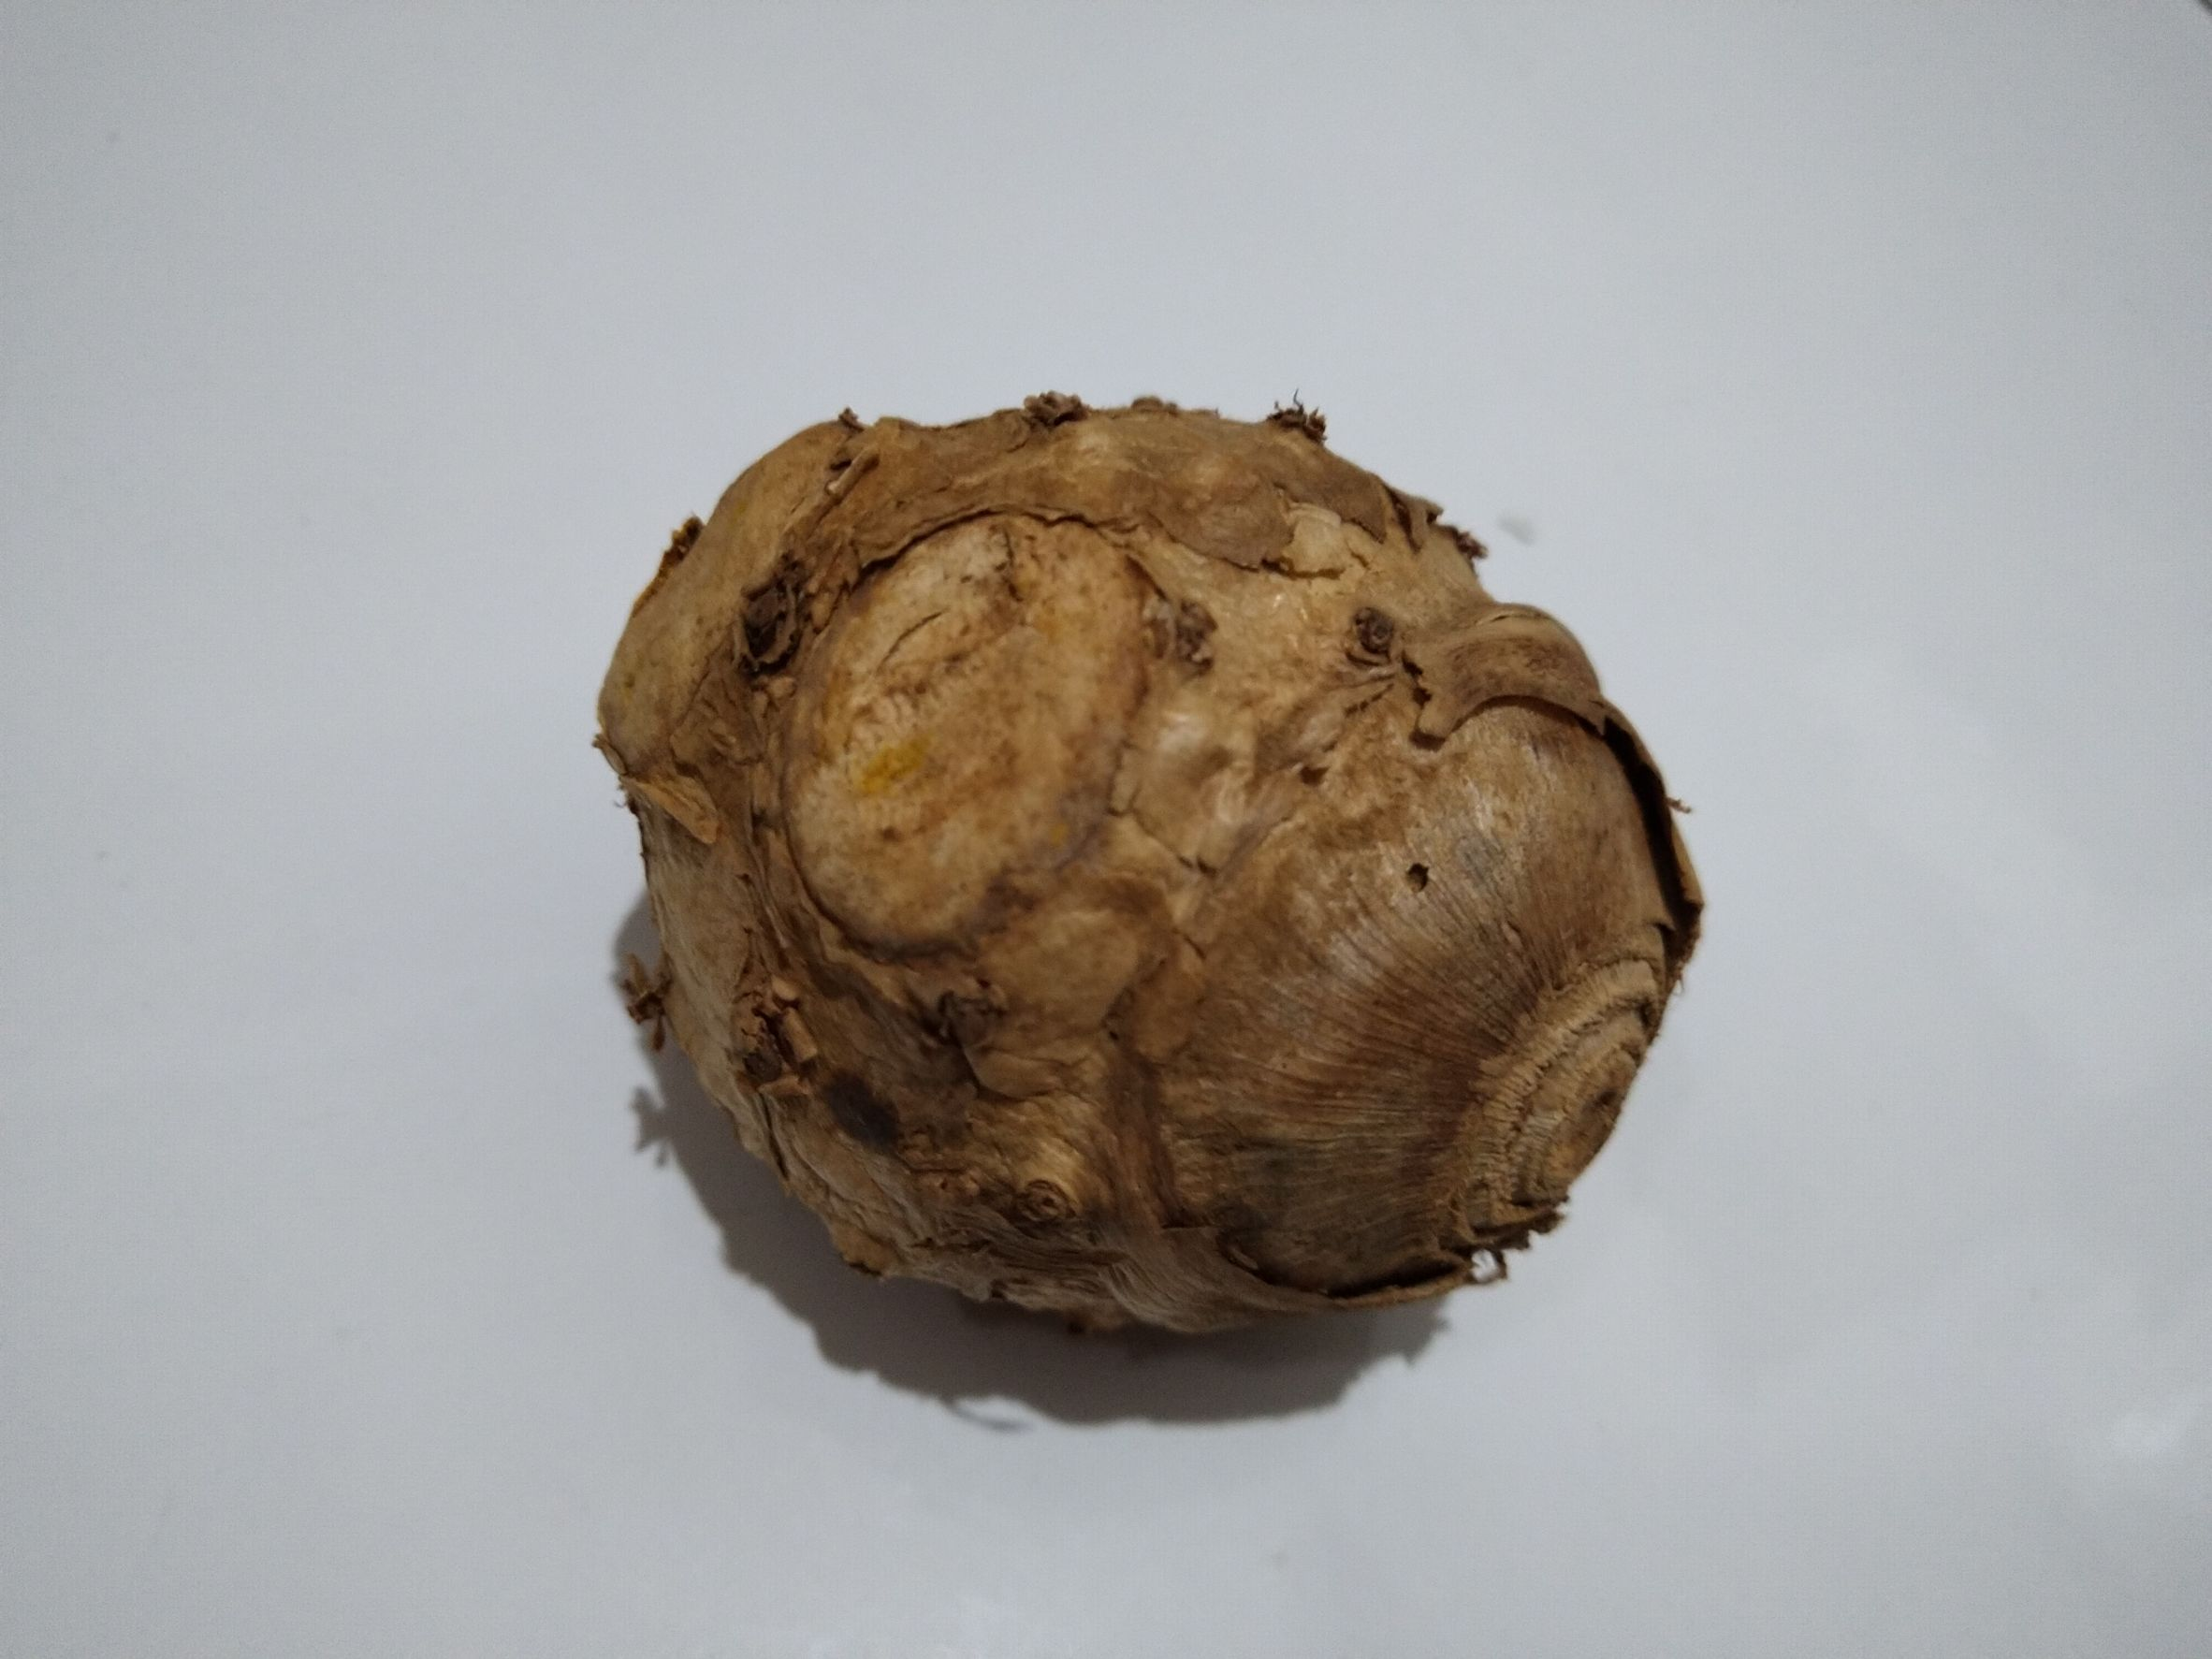Temulawak: (585, 396, 1702, 1392)
